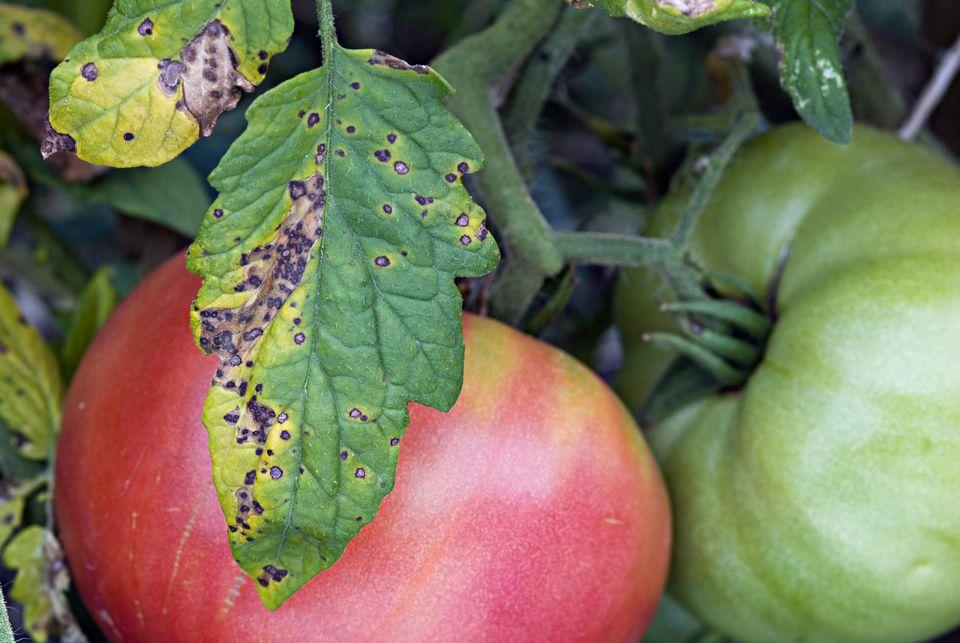Tomato Septoria leaf spot: (177, 41, 473, 603), (35, 4, 293, 170)
